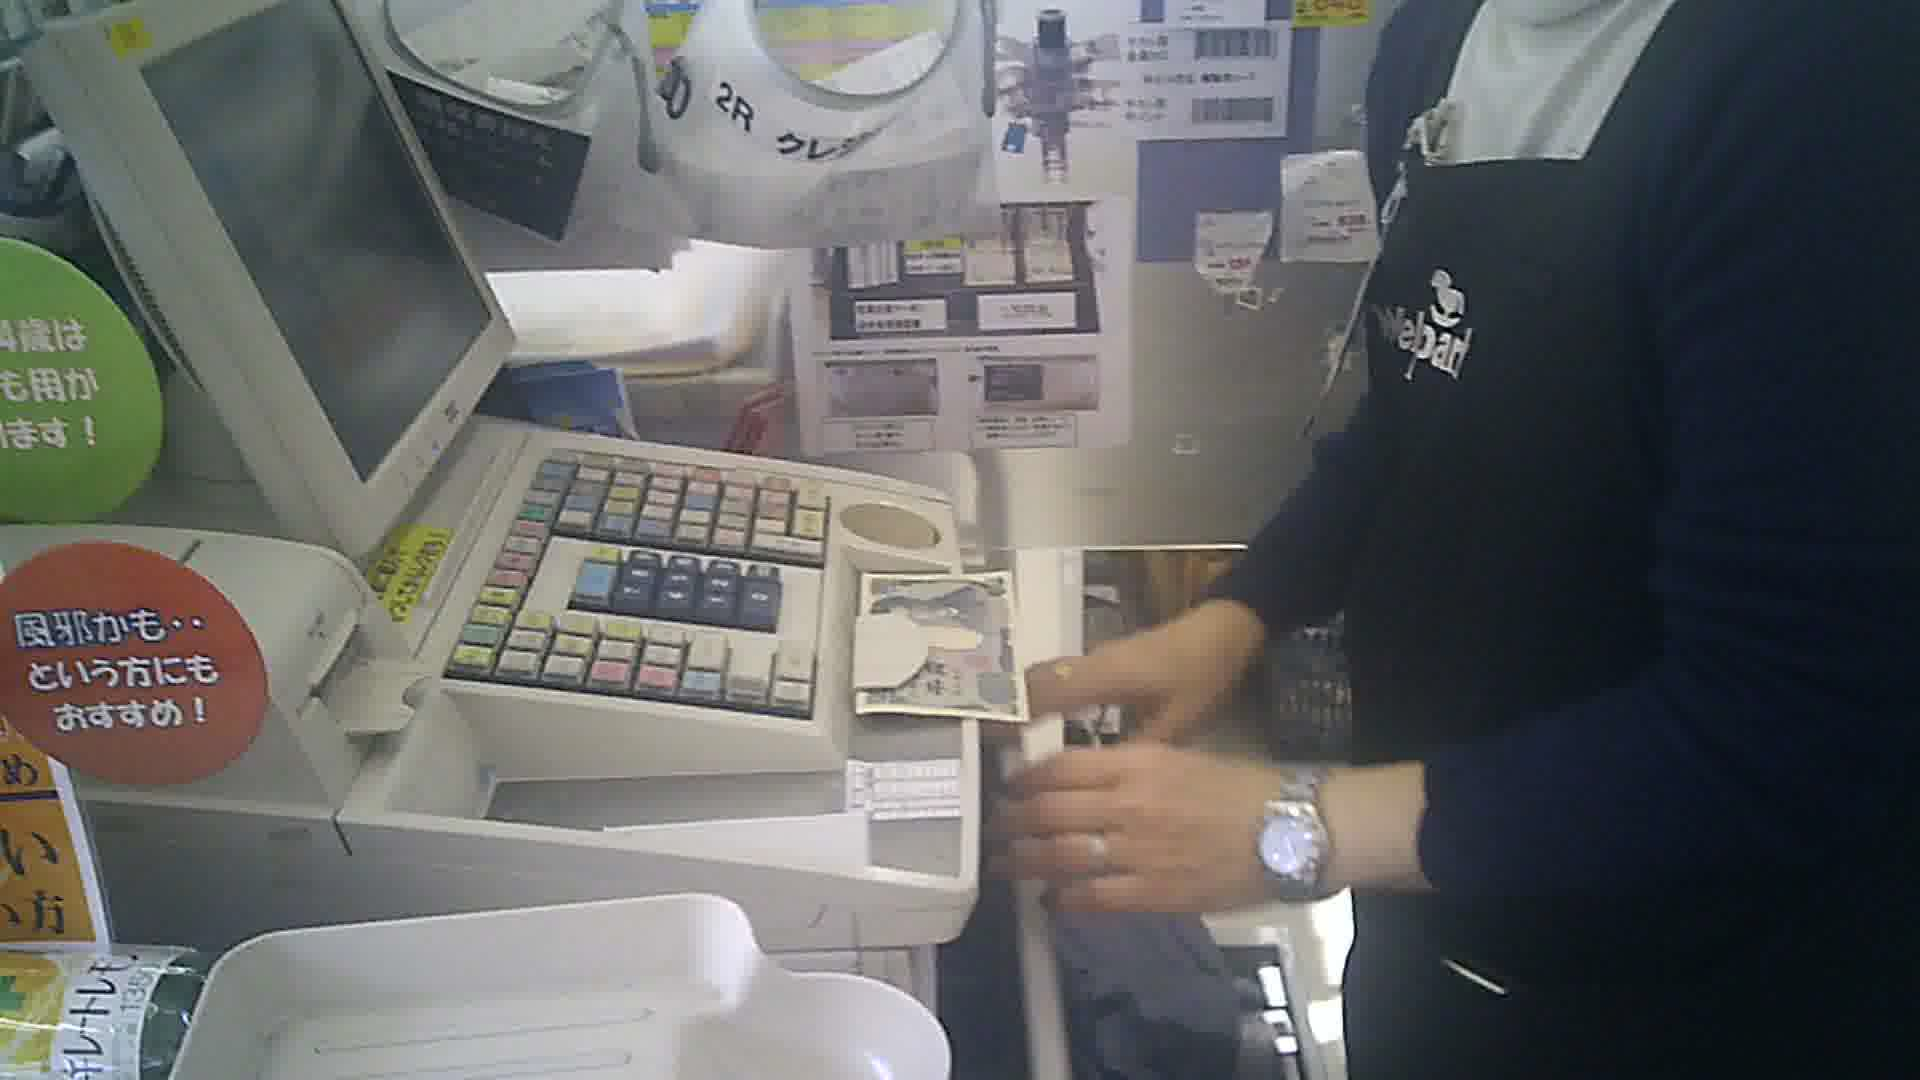1,000 Yen: (855, 562, 1046, 742)
